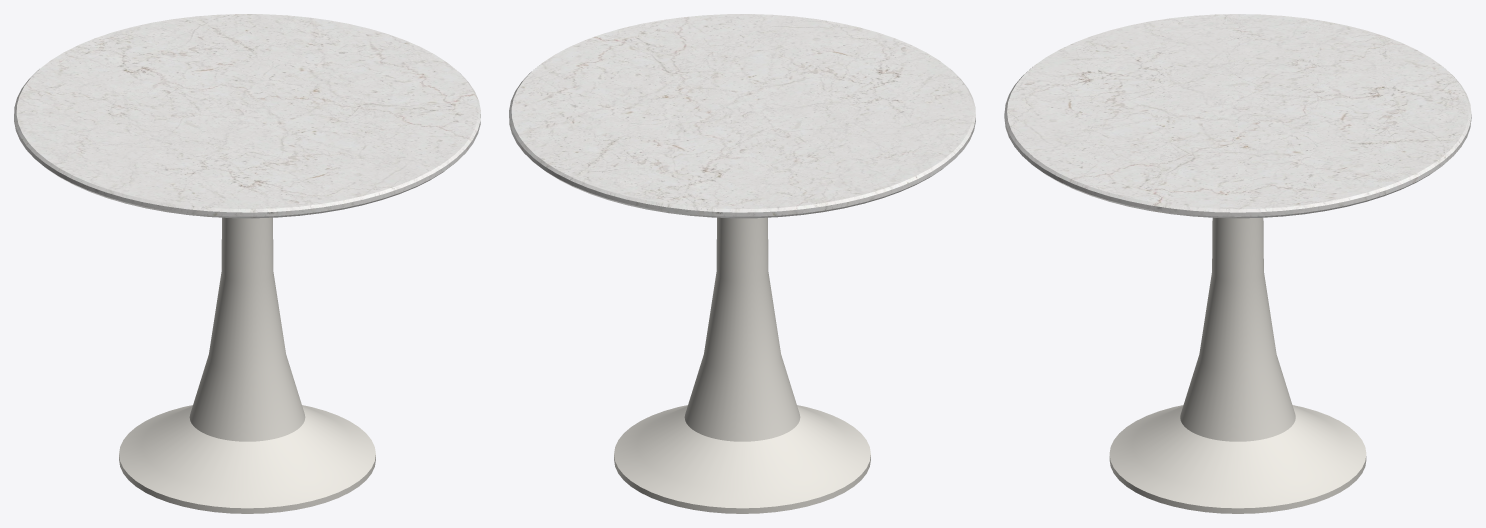
File: mesa_redonda_marmol_90.glb
The picture shows the model from 3 angles, left to right: view 1: azimuth 30°, elevation 25°; view 2: azimuth 150°, elevation 25°; view 3: azimuth 270°, elevation 25°; orthographic projection.
Parts seen in each view (by area): view 1: mesa_redonda_marmol_90; view 2: mesa_redonda_marmol_90; view 3: mesa_redonda_marmol_90.
Part boxes in pixels (x1,y1,x2,y2): mesa_redonda_marmol_90: [14, 14, 480, 513]; mesa_redonda_marmol_90: [509, 14, 975, 513]; mesa_redonda_marmol_90: [1004, 14, 1471, 513].
Bounding box in the file's own units: 0.9 × 0.74 × 0.9.
Materials: 2 (1 with a texture image).
